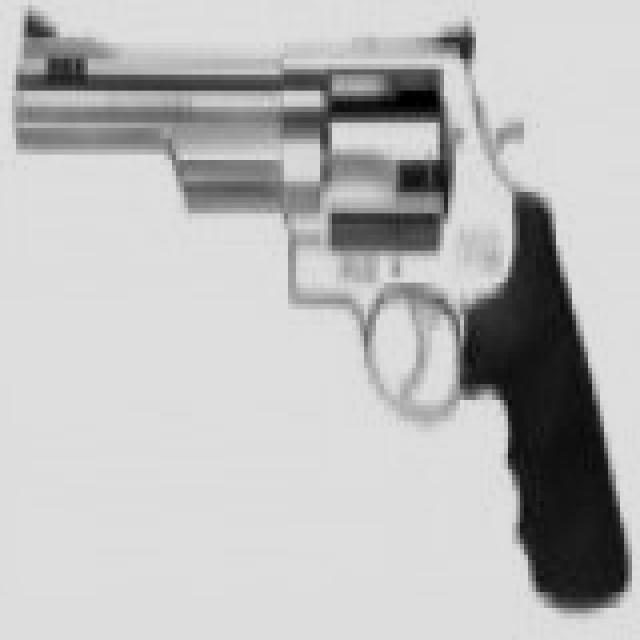pistol: (16, 0, 640, 603)
